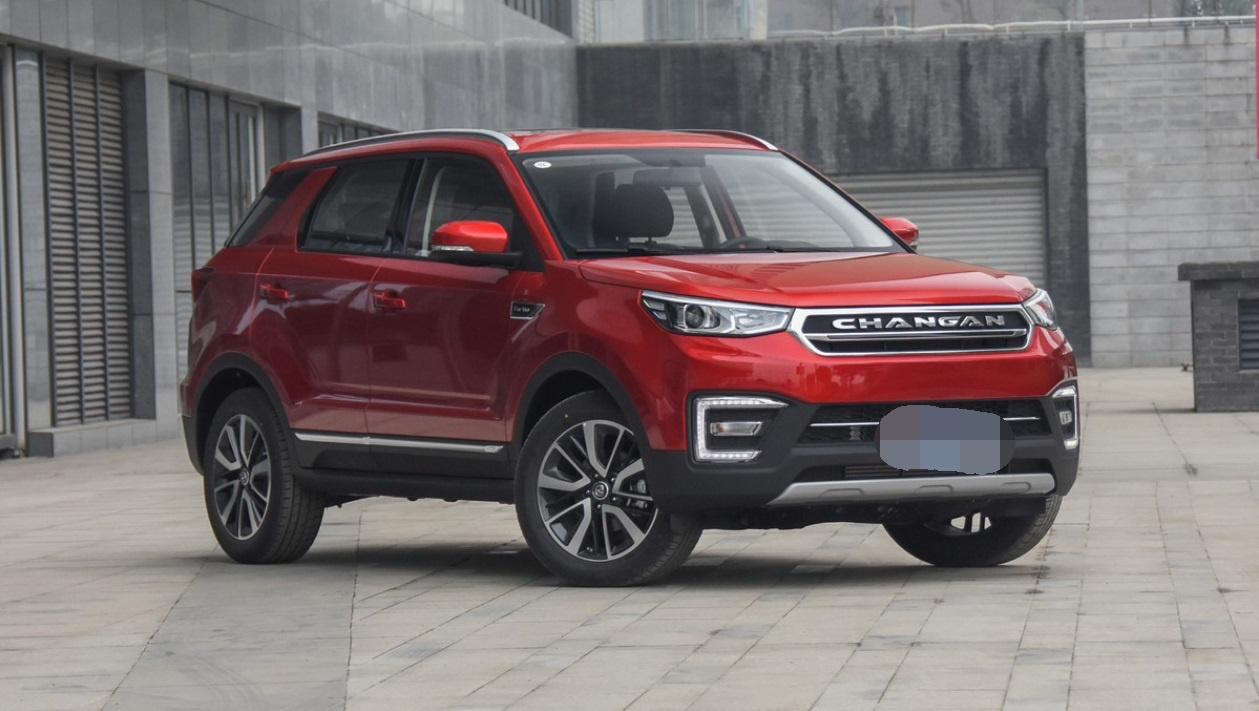SUV: (172, 105, 1098, 597)
